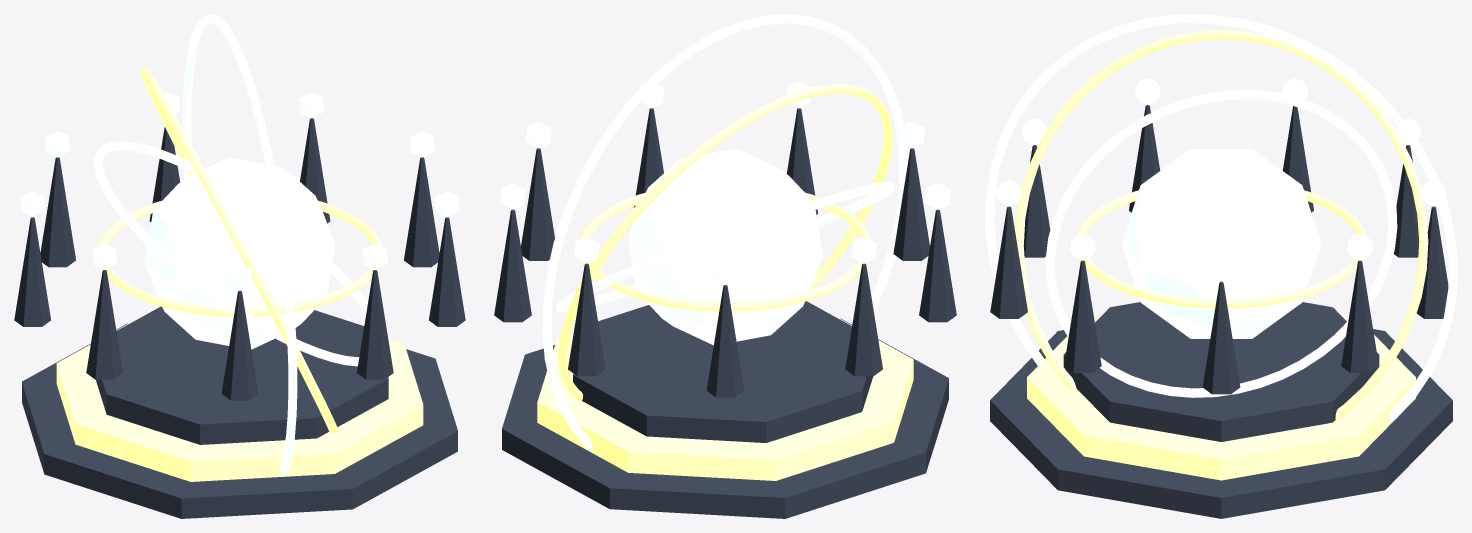
The model's file is gpu-blender-v3.glb.
3 renders of one model, left to right at view 1: azimuth 30°, elevation 25°; view 2: azimuth 150°, elevation 25°; view 3: azimuth 270°, elevation 25°, orthographic. The views are drawn at different scales.
Visible parts, largest first — view 1: Cylinder.002, Cylinder, SovereignCore_etsy-pod-forge, Cylinder.001, Torus.003, Torus.001, Torus.002, Torus, Cone.006, Cone, Cone.003, Cone.005 (+13 smaller); view 2: Cylinder.002, SovereignCore_etsy-pod-forge, Cylinder, Cylinder.001, Torus.003, Torus.002, Torus.001, Torus, Cone.002, Cone.004, Cone.001, Cone.005 (+12 smaller); view 3: SovereignCore_etsy-pod-forge, Cylinder.002, Cylinder, Cylinder.001, Torus.003, Torus.002, Torus.001, Torus, Cone, Cone.007, Cone.001, Cone.008 (+9 smaller).
Part boxes in pixels (<box>): Cylinder.002: <box>96,306,388,444</box>; Cylinder: <box>22,323,457,518</box>; SovereignCore_etsy-pod-forge: <box>144,157,335,349</box>; Cylinder.001: <box>56,314,423,481</box>; Torus.003: <box>182,14,297,474</box>; Torus.001: <box>93,141,367,366</box>; Torus.002: <box>140,68,338,433</box>; Torus: <box>98,200,381,316</box>; Cone.006: <box>221,290,258,400</box>; Cone: <box>404,157,439,267</box>; Cone.003: <box>40,157,75,267</box>; Cone.005: <box>86,270,122,379</box>; Cylinder.002: <box>573,301,873,442</box>; SovereignCore_etsy-pod-forge: <box>627,148,823,345</box>; Cylinder: <box>502,318,948,518</box>; Cylinder.001: <box>537,309,913,480</box>; Torus.003: <box>542,14,908,450</box>; Torus.002: <box>558,84,892,401</box>; Torus.001: <box>556,181,894,312</box>; Torus: <box>580,192,870,311</box>; Cone.002: <box>568,263,605,376</box>; Cone.004: <box>845,263,882,376</box>; Cone.001: <box>494,209,531,322</box>; Cone.005: <box>919,209,956,322</box>; SovereignCore_etsy-pod-forge: <box>1121,149,1321,338</box>; Cylinder.002: <box>1063,302,1379,441</box>; Cylinder: <box>990,329,1452,518</box>; Cylinder.001: <box>1027,316,1415,480</box>; Torus.003: <box>985,14,1457,422</box>; Torus.002: <box>1015,30,1428,421</box>; Torus.001: <box>1045,90,1397,397</box>; Torus: <box>1076,190,1366,308</box>; Cone: <box>1202,281,1240,394</box>; Cone.007: <box>990,206,1027,318</box>; Cone.001: <box>1341,260,1378,372</box>; Cone.008: <box>1064,260,1101,372</box>.
Size of the model in its own units: 4.41 by 4.7 by 4.49.
